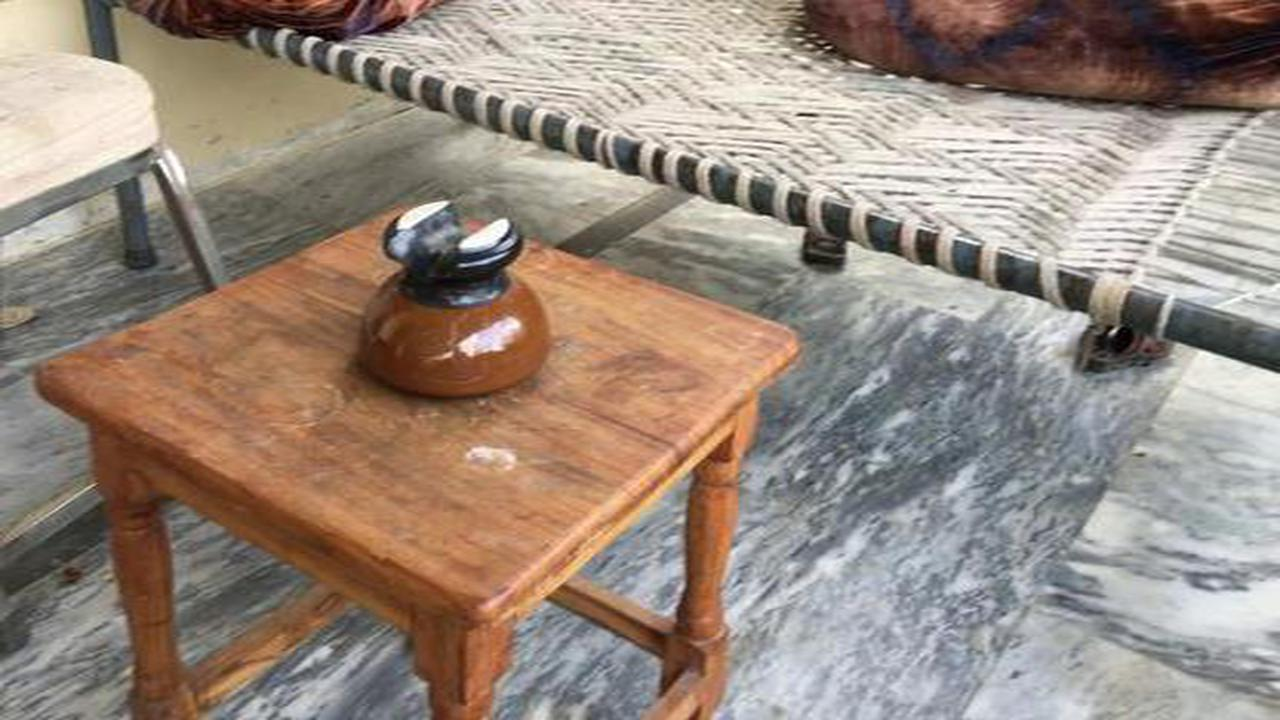insulator_pin: (333, 182, 567, 416)
